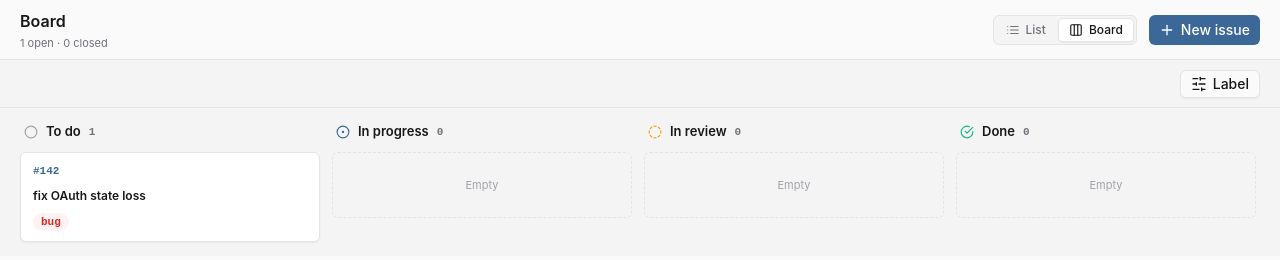
Scenario: IssuesPage › uses the row action menu label and hides empty timestamps
Expected: the heading "fix OAuth state loss" is shown, [33, 186, 146, 204]
Click the button "List". click: (1026, 30)
box: [996, 18, 1056, 42]
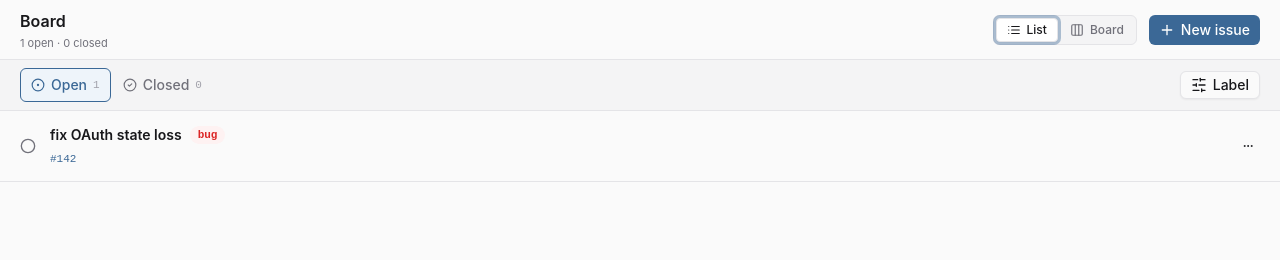
Expected: the text "fix OAuth state loss" is shown, [50, 125, 182, 145]
Expected: the button named "More actions" is shown, [1236, 134, 1260, 158]
